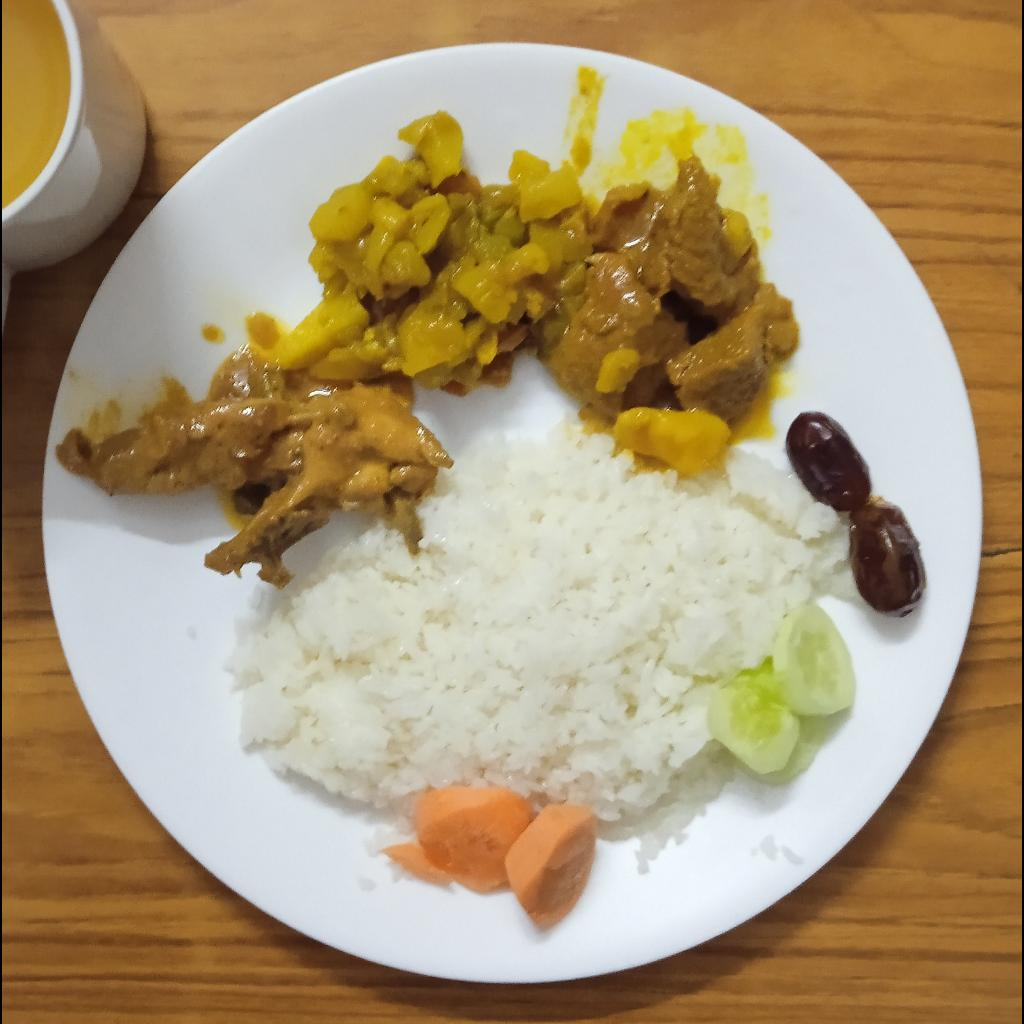beef: (552, 161, 801, 424)
carrot: (379, 787, 598, 929)
chicken: (54, 353, 455, 590)
cucumber: (710, 603, 859, 785)
dates: (787, 410, 928, 618)
potato: (612, 410, 731, 470)
rice: (229, 426, 862, 869)
vegetable: (261, 111, 589, 396)
